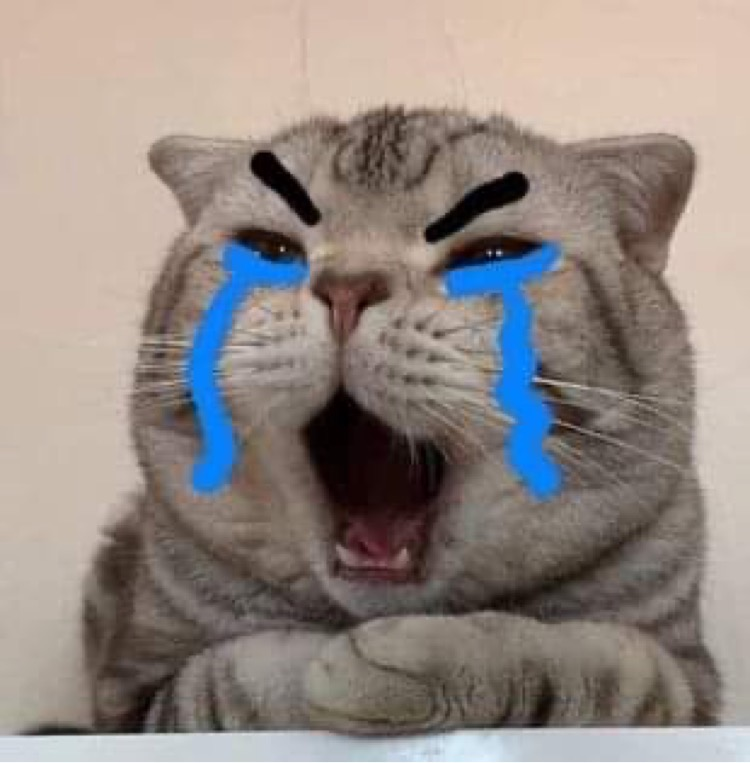cat: (93, 106, 721, 731)
